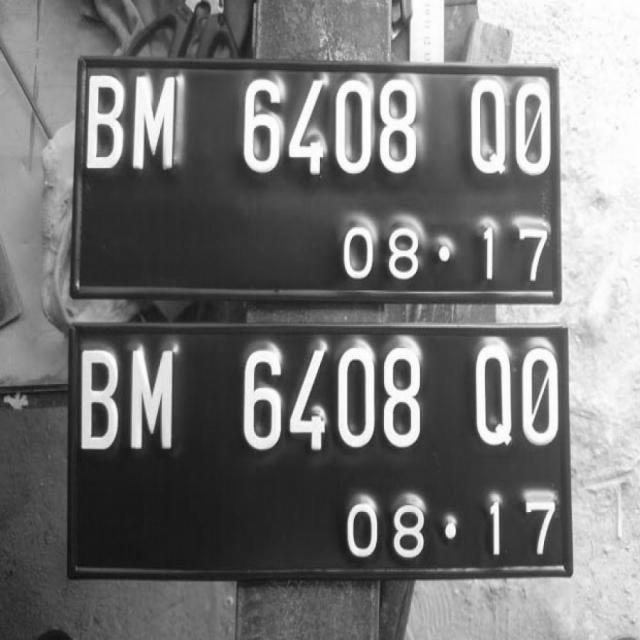0: (334, 336, 382, 448), (331, 78, 376, 184)
4: (290, 346, 338, 448), (290, 78, 328, 181)
6: (228, 73, 290, 178), (236, 348, 288, 450)
8: (376, 78, 424, 183), (382, 342, 424, 448)
B: (80, 347, 118, 454), (85, 72, 124, 176)
M: (126, 348, 182, 446), (131, 71, 181, 178)
O: (515, 340, 560, 449), (511, 78, 556, 181)
Q: (471, 343, 519, 448), (466, 78, 512, 180)
